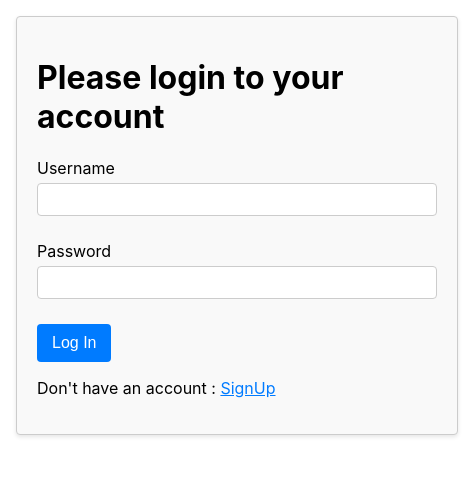
TinyUrlLoginPage › failed login
Note: Simulate user input and form submission
In the field labelled "Username": (237, 199) [37,183,437,216], type "Chikku"
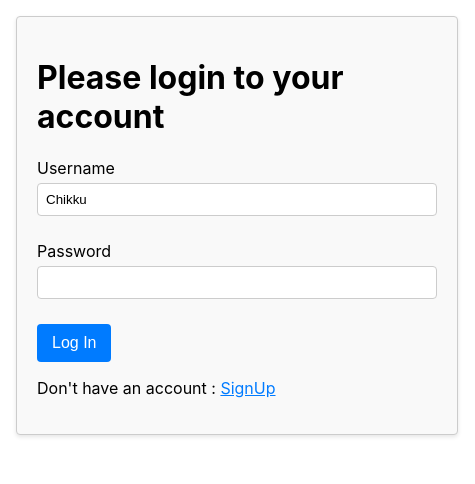
In the password field labelled "Password": (237, 282) [37,266,437,299], type "test123"
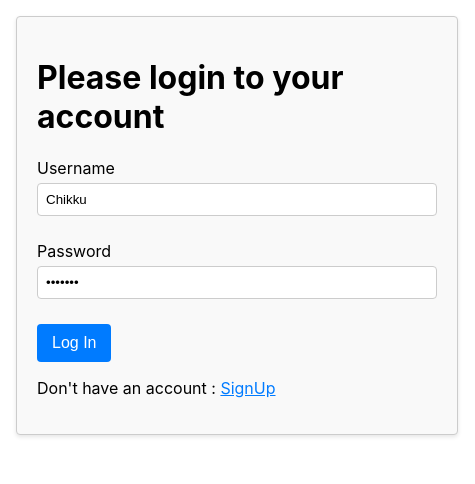
Note: simulate form submission
Click the button "Log In": click(74, 343) [37,324,112,362]
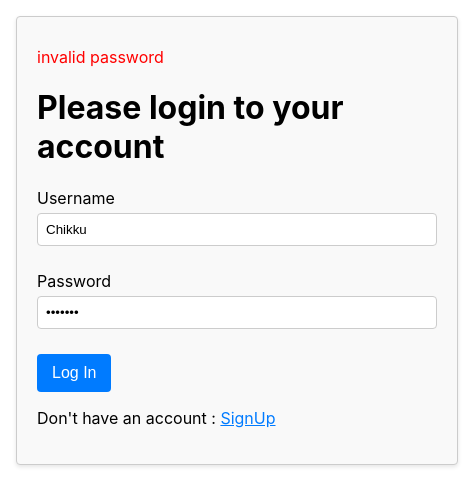
Check: the text "invalid password" is shown, box [37,47,164,67]
